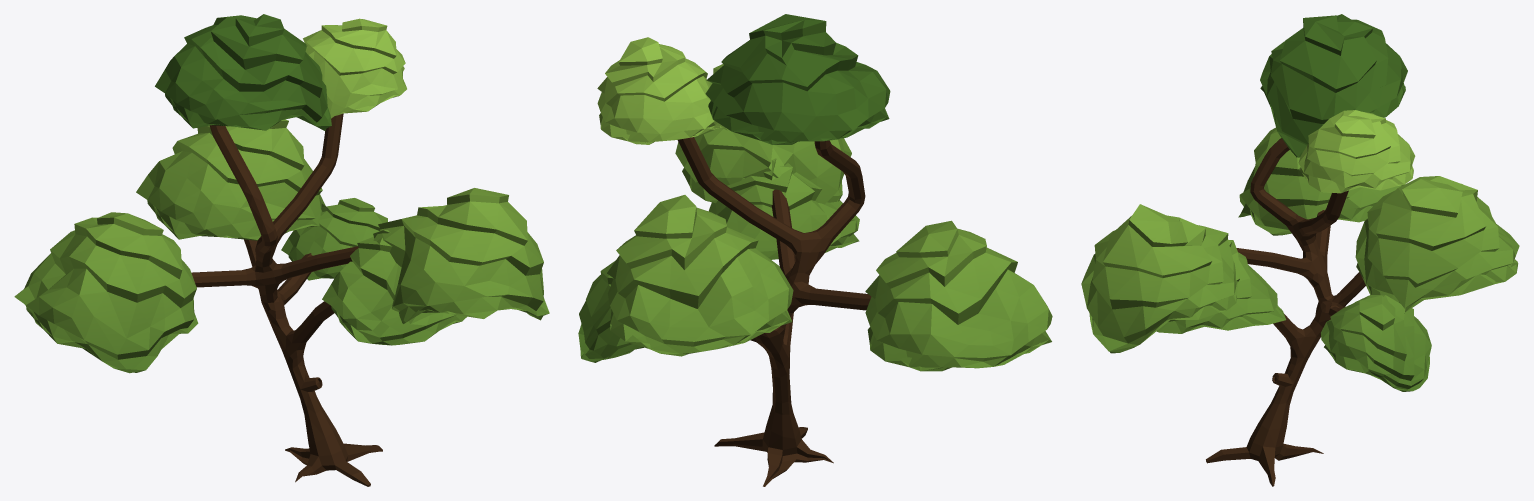
The model's file is Tree-1.fbx.
3 views of the same model, side by side, from view 1: azimuth 30°, elevation 25°; view 2: azimuth 150°, elevation 25°; view 3: azimuth 270°, elevation 25° (orthographic). The views are drawn at different scales.
Visible parts, largest first — view 1: Icosphere, Cube; view 2: Icosphere, Cube; view 3: Icosphere, Cube.
Part boxes in pixels (box(x1,y1,x2,y2)): Icosphere: box(14, 14, 549, 373); Cube: box(191, 113, 382, 486); Icosphere: box(578, 14, 1052, 371); Cube: box(677, 137, 871, 486); Icosphere: box(1081, 14, 1519, 391); Cube: box(1206, 138, 1365, 486).
Size of the model in its own units: 13.93 by 13.94 by 13.23.
Materials: 1 (1 with a texture image).
